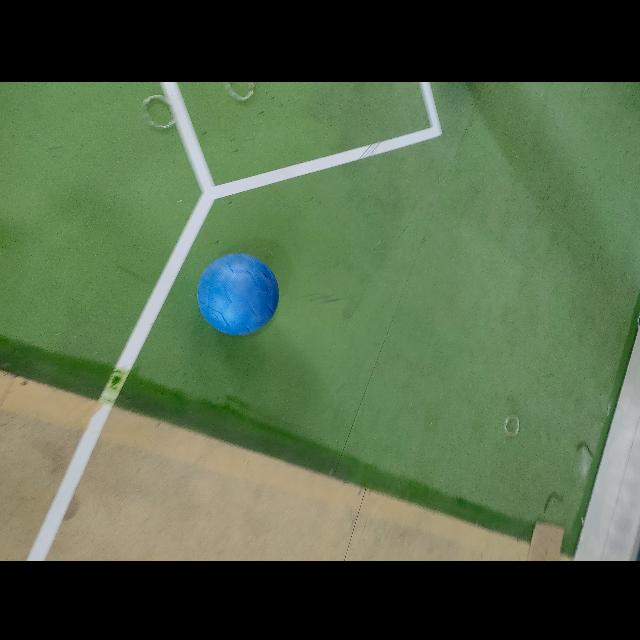B: (198, 252, 280, 332)
